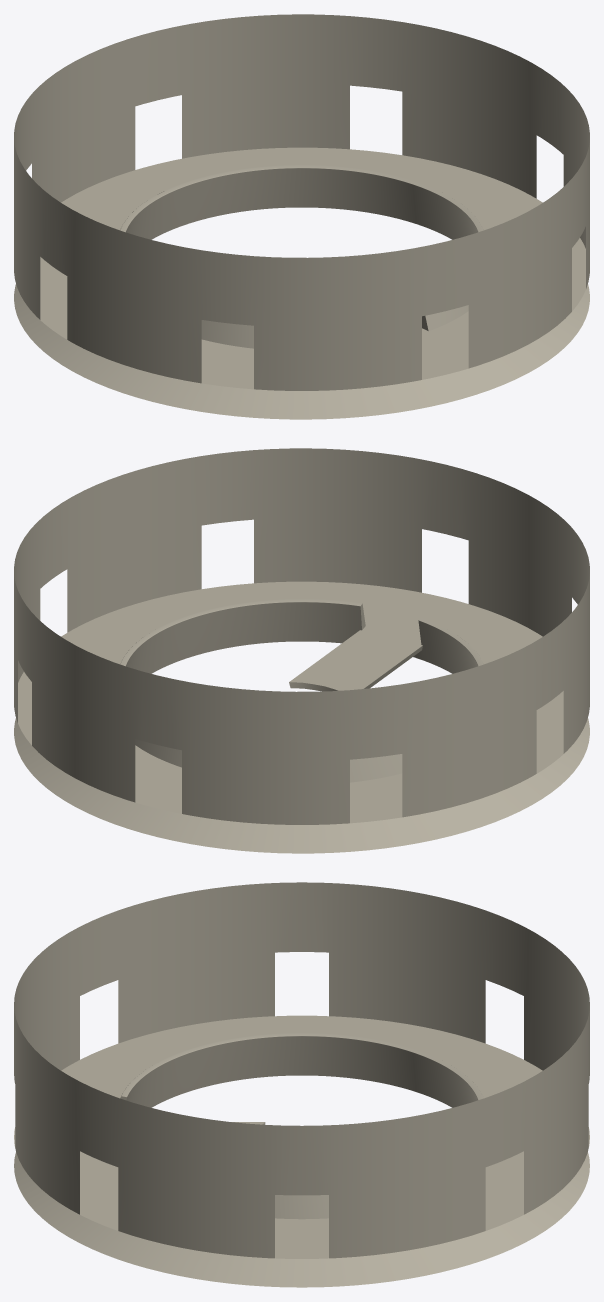
File: OV lvl Walls.fbx
3 renders of one model, top to bottom at view 1: azimuth 30°, elevation 25°; view 2: azimuth 150°, elevation 25°; view 3: azimuth 270°, elevation 25°, orthographic.
Parts seen in each view (by area): view 1: polySurface217; view 2: polySurface217; view 3: polySurface217.
Part boxes in pixels (x1,y1,x2,y2): polySurface217: [14, 14, 589, 419]; polySurface217: [14, 448, 589, 853]; polySurface217: [14, 882, 589, 1287].
Bounding box in the file's own units: 1805 × 559 × 1805.
